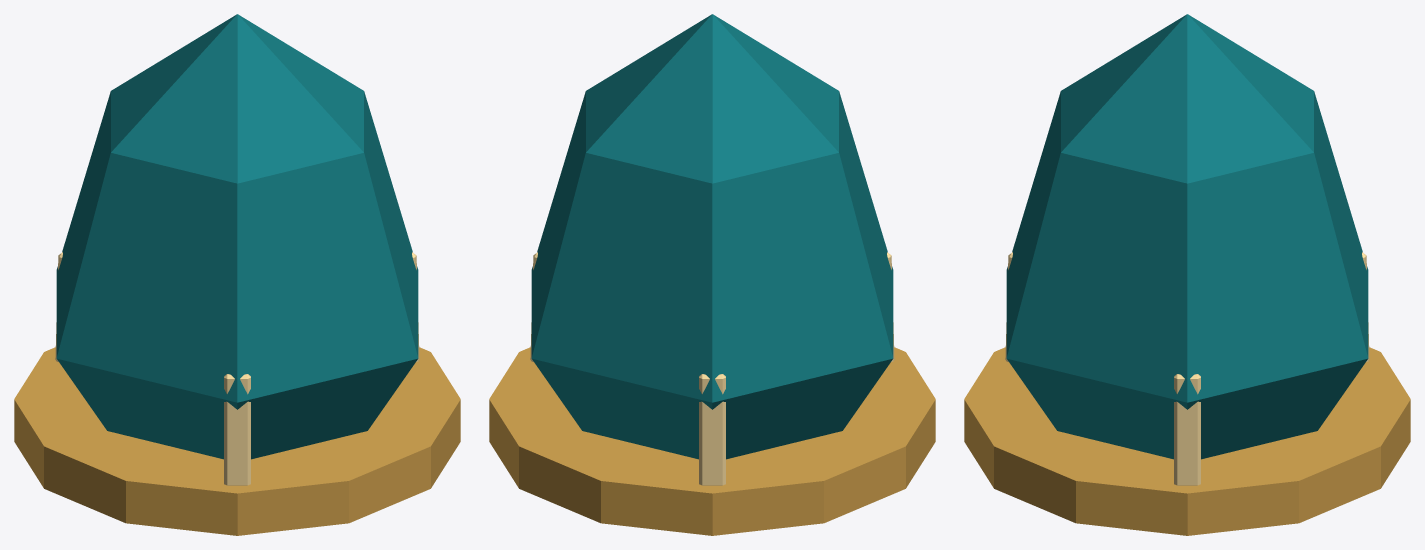
Rendered from 11_Cut_Gem.glb.
3 views of the same model, side by side, from view 1: azimuth 30°, elevation 25°; view 2: azimuth 150°, elevation 25°; view 3: azimuth 270°, elevation 25° (orthographic).
Visible parts, largest first — view 1: 11_Cut_Gem__Body; view 2: 11_Cut_Gem__Body; view 3: 11_Cut_Gem__Body.
Part boxes in pixels (x1,y1,x2,y2): 11_Cut_Gem__Body: (14,14,460,535); 11_Cut_Gem__Body: (489,14,935,535); 11_Cut_Gem__Body: (964,14,1410,535).
Size of the model in its own units: 1.24 by 1.31 by 1.24.
1 material, 1 textured.
